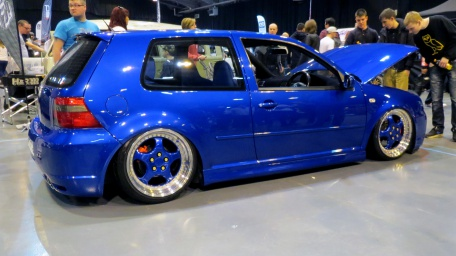car: (29, 30, 427, 204)
